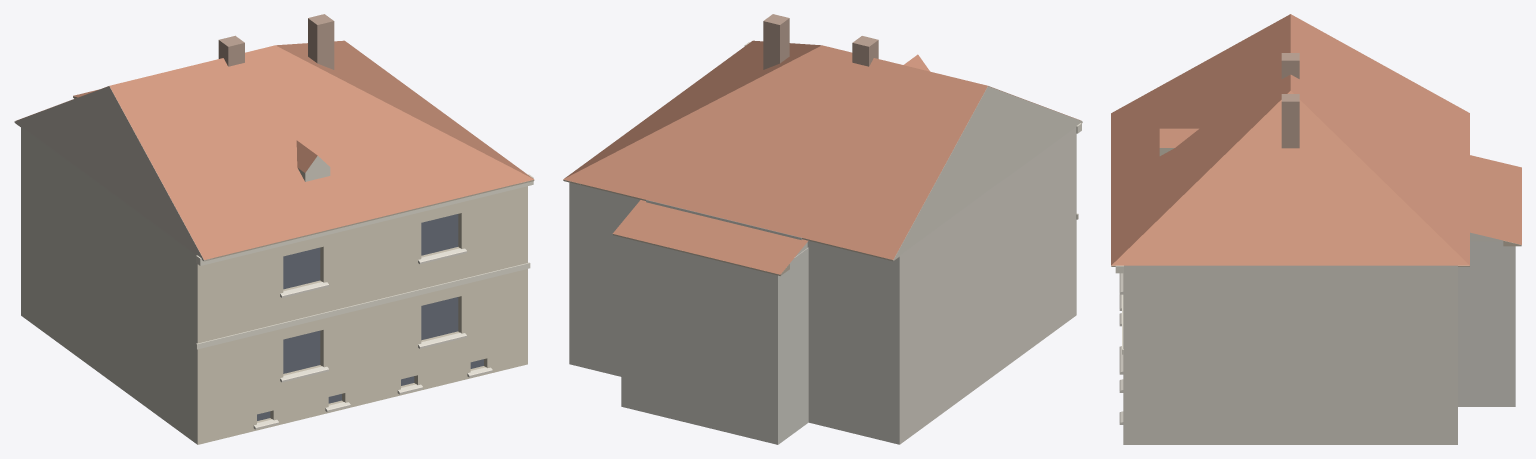
3 renders of one model, left to right at view 1: azimuth 30°, elevation 25°; view 2: azimuth 150°, elevation 25°; view 3: azimuth 270°, elevation 25°, orthographic. The views are drawn at different scales.
Parts seen in each view (by area): view 1: CP_1835_Masonry, CP_1835_Roof, CP_1835_Gable_L_gable, CP_1835_Cornice_band_0, CP_1835_Cornice_main_0, CP_1835_Chimney_1, CP_1835_Dormer_V1, CP_1835_Chimney_0, CP_1835_Roof_EaveClosure_0; view 2: CP_1835_Masonry, CP_1835_Roof, CP_1835_Rear_Stair, CP_1835_Gable_L_gable, CP_1835_WingRoof_Rear_Stair, CP_1835_Chimney_1, CP_1835_Chimney_0, CP_1835_AtticClosure_1; view 3: CP_1835_Roof, CP_1835_Masonry, CP_1835_Rear_Stair, CP_1835_WingRoof_Rear_Stair, CP_1835_Chimney_1, CP_1835_Dormer_V1, CP_1835_Chimney_0.
Boxes of the visible parts, x1,y1,x2,y2 form: CP_1835_Masonry: [21, 126, 527, 444]; CP_1835_Roof: [16, 40, 533, 259]; CP_1835_Gable_L_gable: [14, 86, 212, 260]; CP_1835_Cornice_band_0: [196, 262, 530, 349]; CP_1835_Cornice_main_0: [196, 174, 533, 265]; CP_1835_Chimney_1: [308, 14, 334, 69]; CP_1835_Dormer_V1: [296, 140, 330, 181]; CP_1835_Chimney_0: [218, 35, 244, 66]; CP_1835_Roof_EaveClosure_0: [202, 184, 517, 261]; CP_1835_Masonry: [569, 127, 1076, 444]; CP_1835_Roof: [563, 40, 1081, 259]; CP_1835_Rear_Stair: [621, 237, 808, 444]; CP_1835_Gable_L_gable: [885, 86, 1082, 260]; CP_1835_WingRoof_Rear_Stair: [612, 200, 808, 274]; CP_1835_Chimney_1: [763, 14, 789, 69]; CP_1835_Chimney_0: [852, 36, 878, 66]; CP_1835_AtticClosure_1: [646, 200, 807, 256]; CP_1835_Roof: [1111, 14, 1469, 265]; CP_1835_Masonry: [1123, 265, 1457, 444]; CP_1835_Rear_Stair: [1458, 241, 1515, 406]; CP_1835_WingRoof_Rear_Stair: [1470, 155, 1521, 244]; CP_1835_Chimney_1: [1281, 94, 1299, 148]; CP_1835_Dormer_V1: [1159, 128, 1198, 155]; CP_1835_Chimney_0: [1281, 53, 1299, 78].
Bounding box in the file's own units: 11.96 × 10.6 × 13.5.
